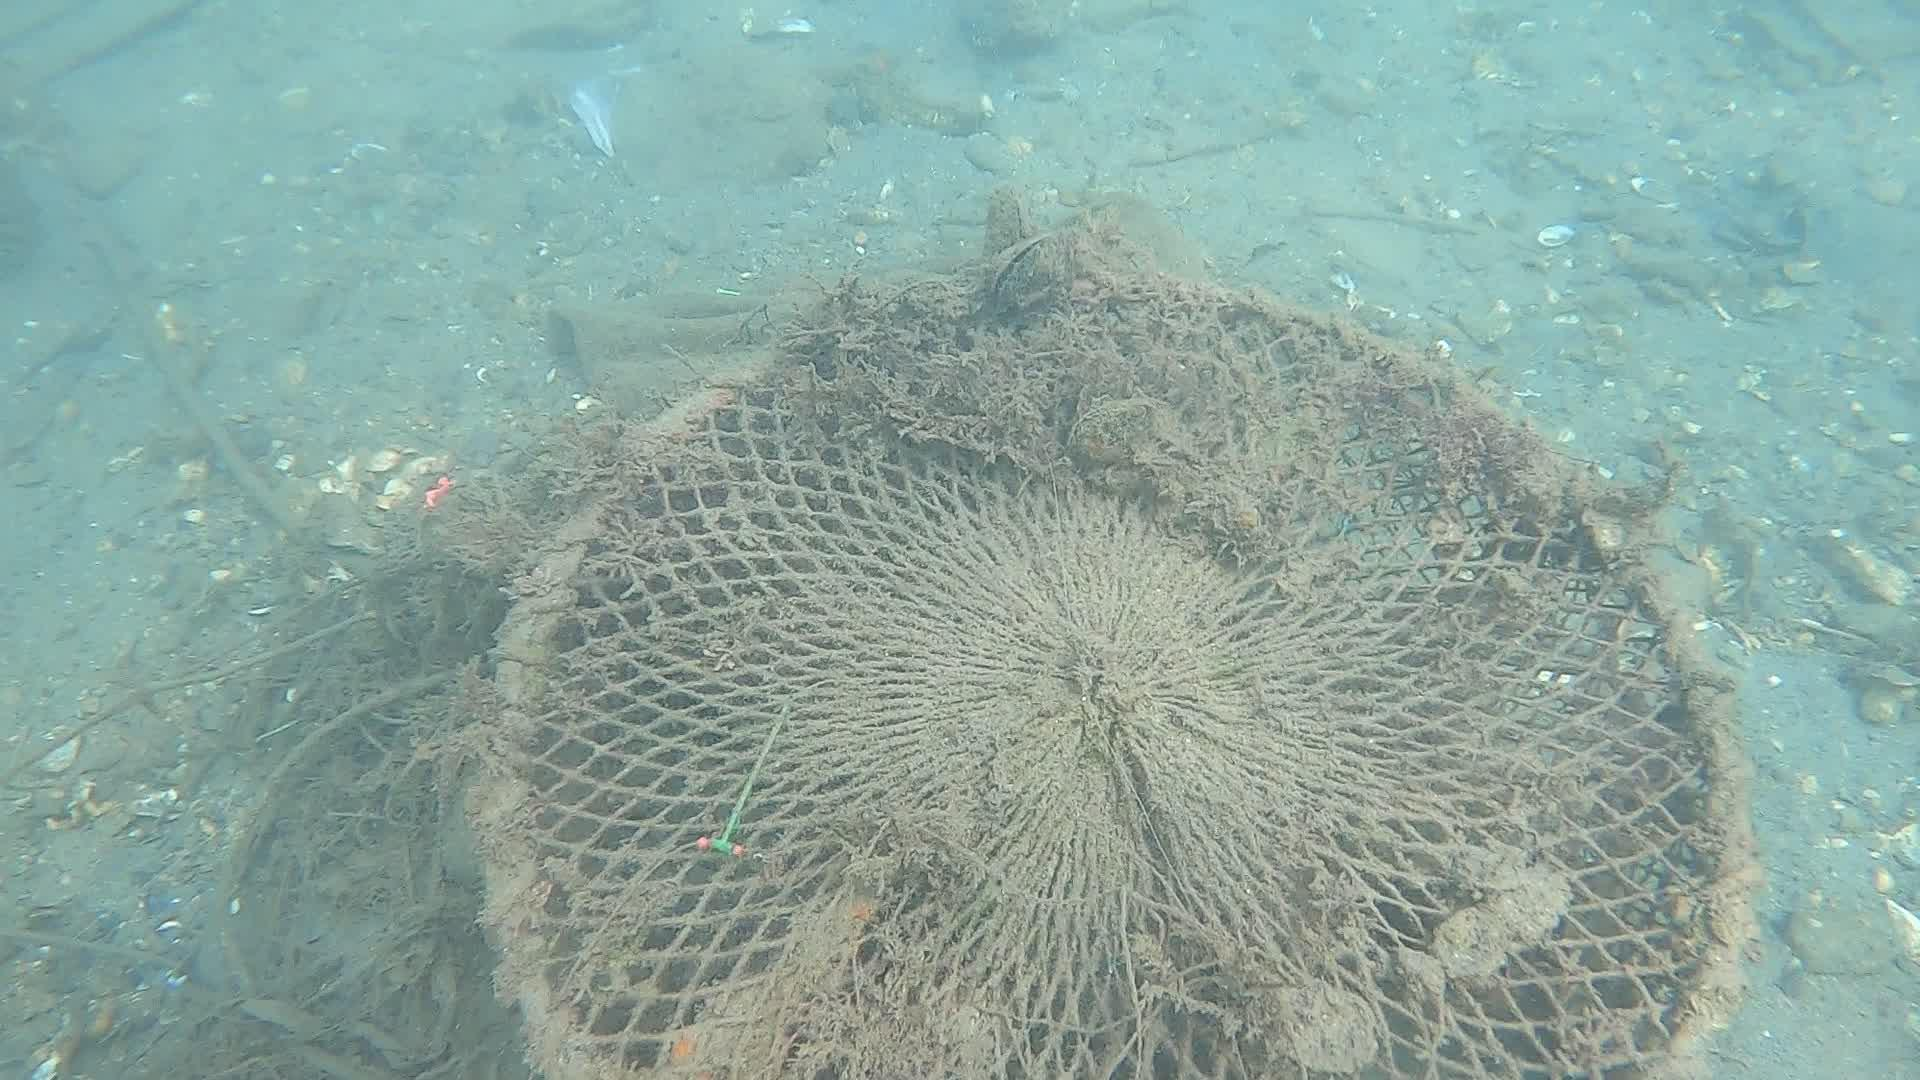circular fish trap: (464, 269, 1750, 1080)
